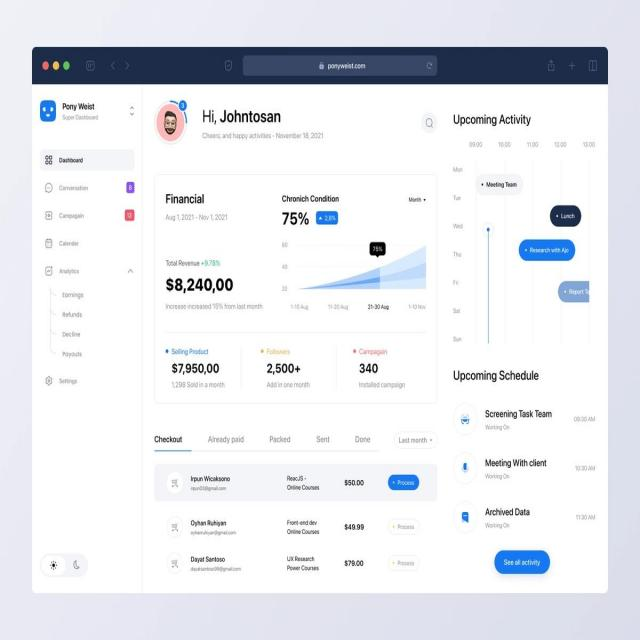button: (494, 549, 550, 574)
input: (244, 54, 438, 77)
select: (394, 430, 437, 450)
